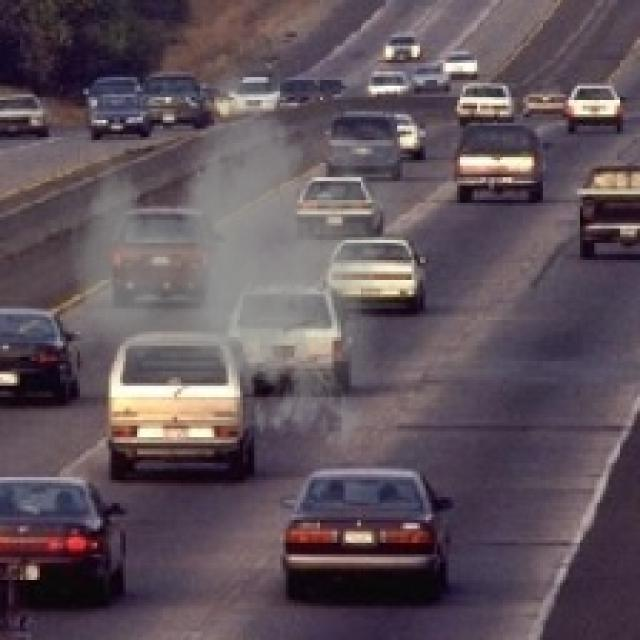Smoke: (66, 54, 408, 460)
